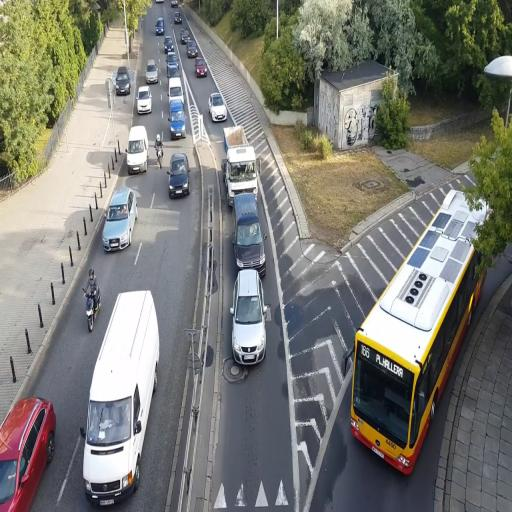vehicle: (348, 178, 489, 478), (81, 290, 161, 506), (0, 393, 56, 511), (232, 147, 266, 275), (230, 268, 268, 366), (232, 190, 266, 275), (224, 126, 258, 205), (102, 188, 136, 252), (127, 125, 149, 175), (168, 152, 190, 198), (169, 100, 186, 139), (208, 92, 228, 123), (84, 289, 98, 333), (134, 86, 152, 116), (114, 68, 131, 96), (145, 60, 159, 83), (195, 62, 207, 78)
